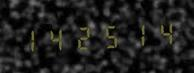five: (96, 20, 121, 51)
four: (43, 22, 68, 54), (148, 17, 173, 48)
one: (122, 18, 147, 50), (17, 24, 42, 55)
two: (70, 21, 95, 53)
